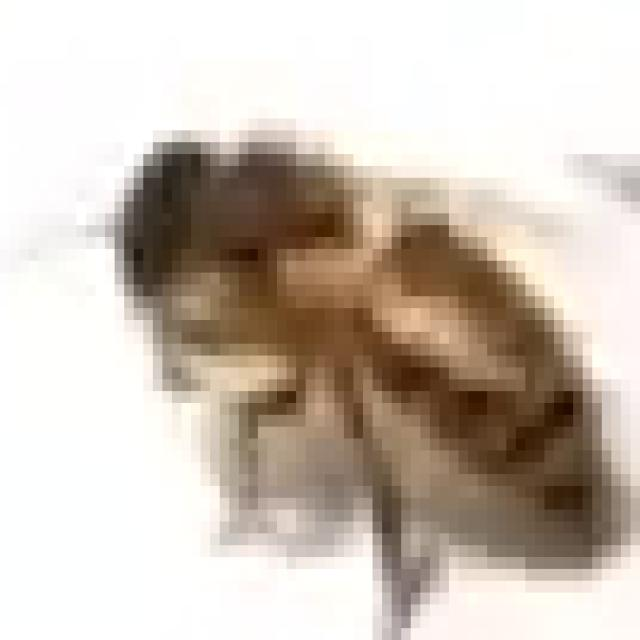honeybee: (100, 113, 640, 623)
